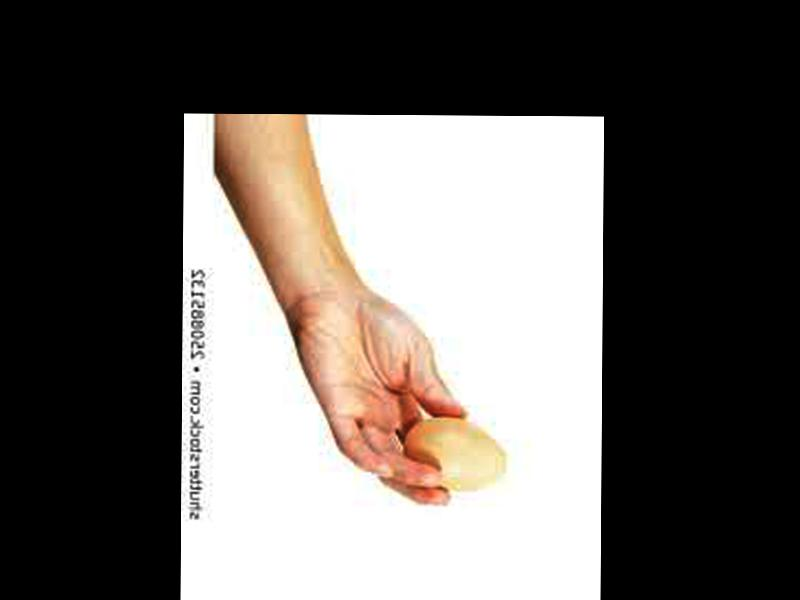Eggs: (399, 416, 508, 491)
